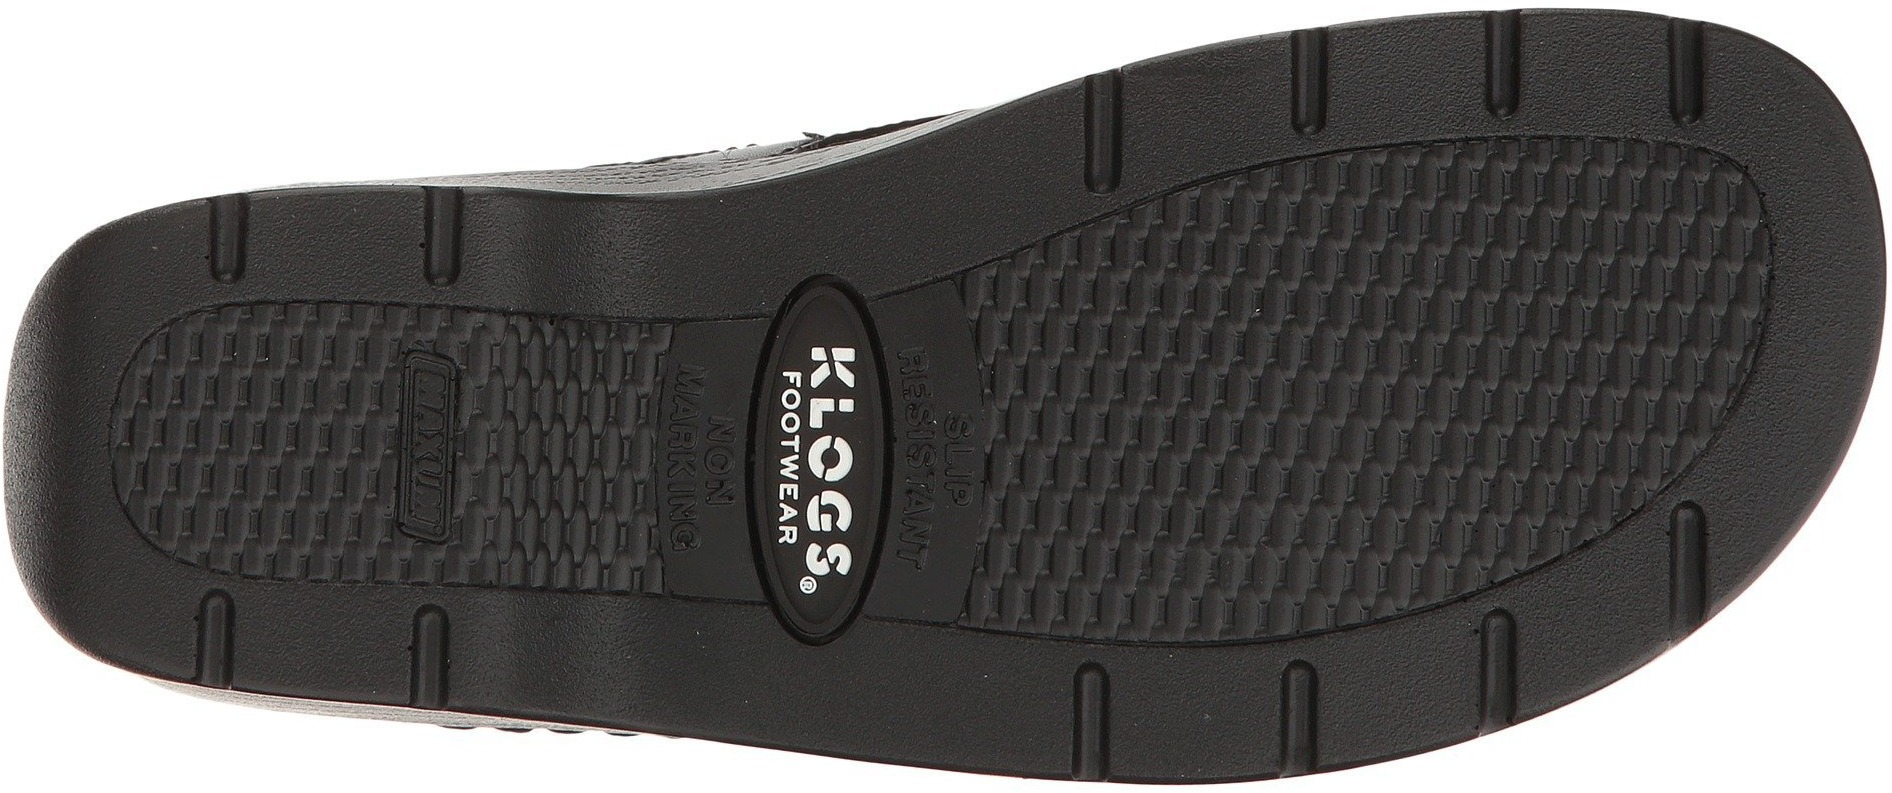circle: (751, 255, 899, 660), (638, 352, 742, 546)
quad: (1119, 241, 1627, 566), (352, 321, 492, 564)
text: (751, 255, 899, 660), (352, 321, 492, 564), (638, 352, 742, 546), (888, 352, 979, 564)
